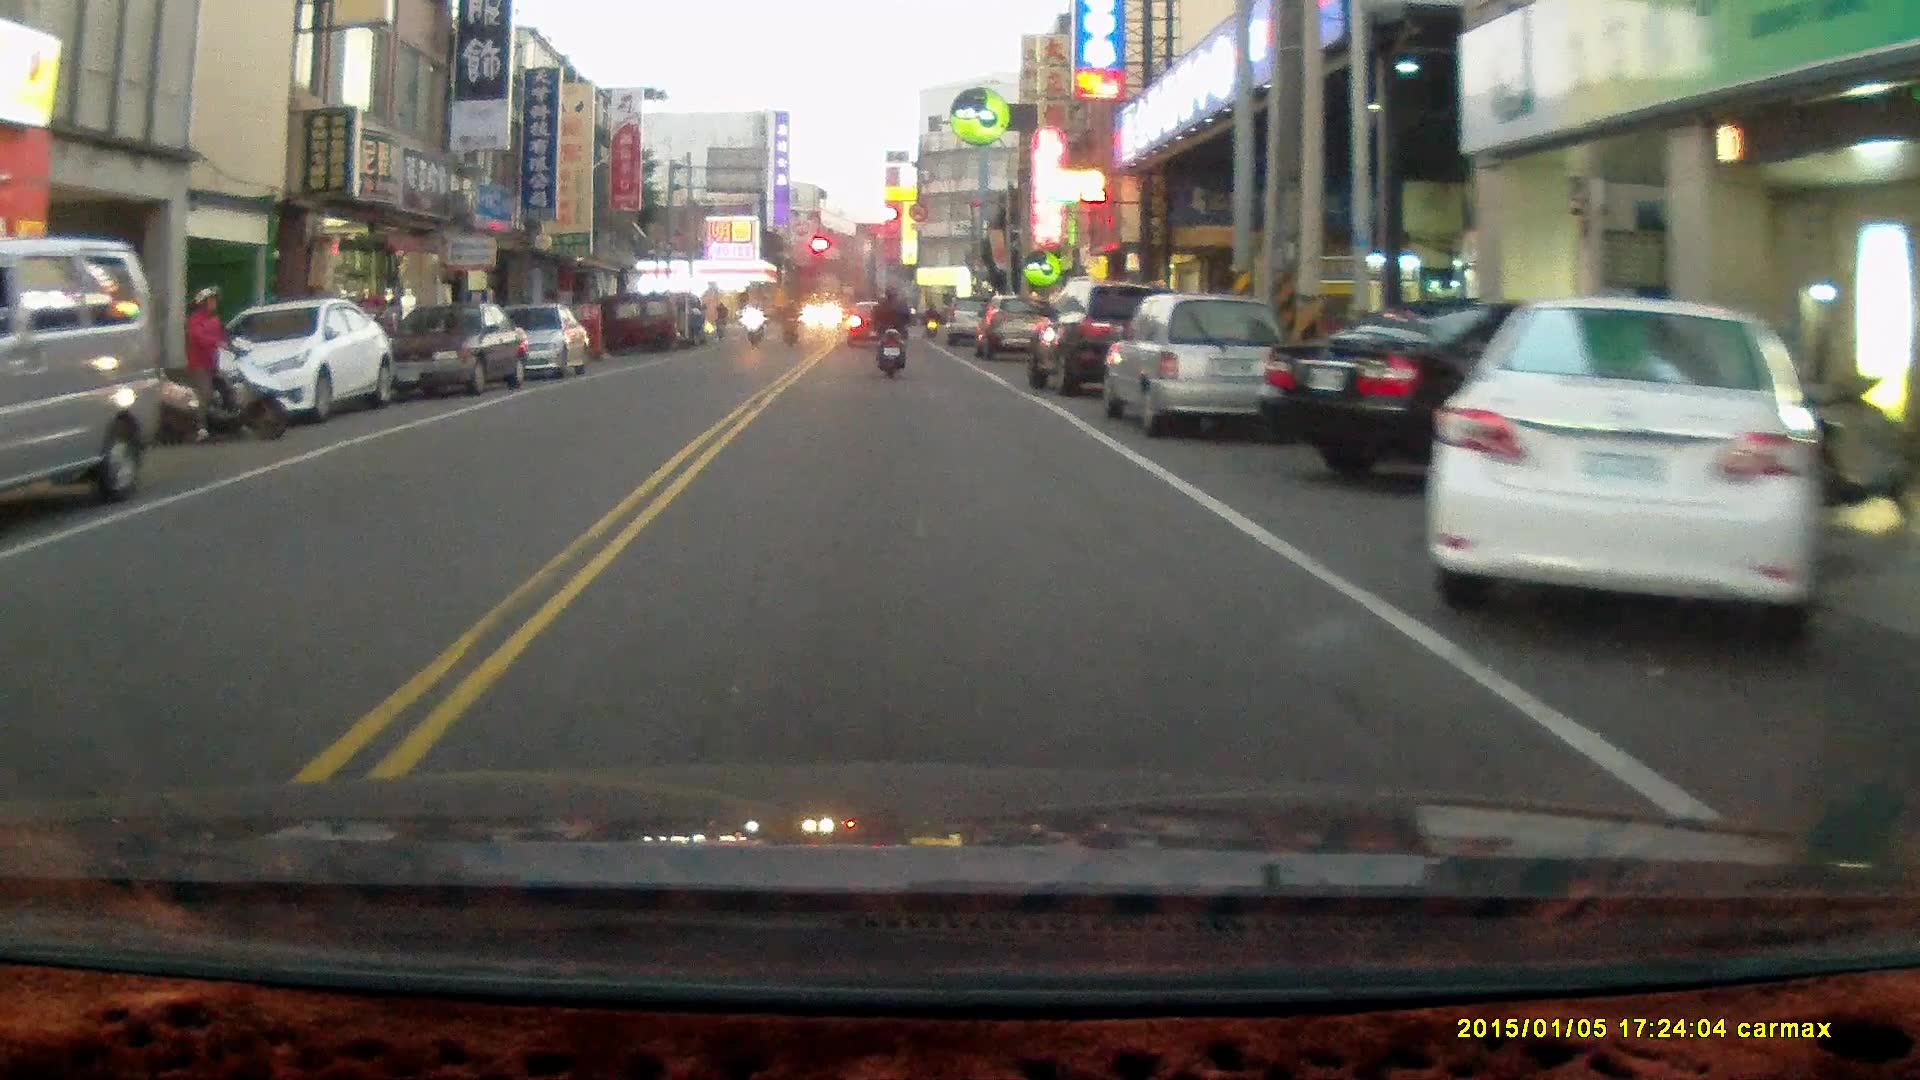rider: (149, 282, 284, 441), (866, 280, 909, 380), (740, 295, 766, 345)
vehicle: (1423, 293, 1834, 638), (1265, 298, 1749, 496), (1, 236, 159, 509), (1104, 292, 1300, 432), (189, 292, 389, 421), (1024, 279, 1183, 398), (369, 299, 530, 396), (468, 298, 587, 379)
